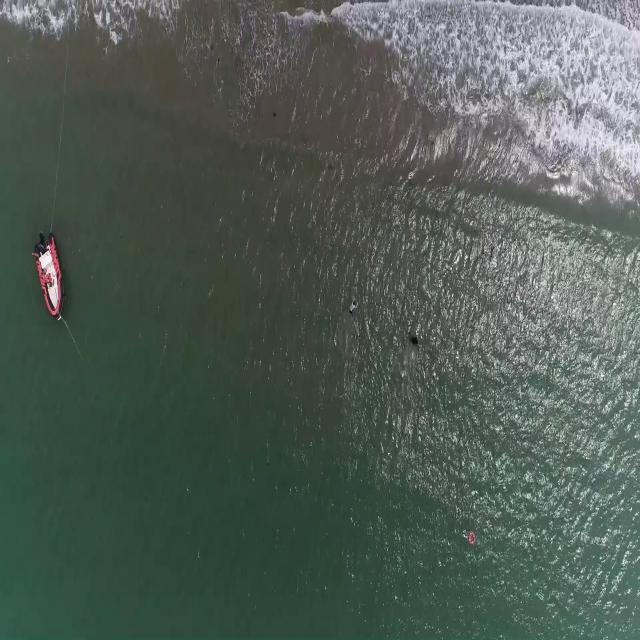boat: (34, 231, 64, 319)
life_buoy: (468, 530, 477, 544)
person: (349, 294, 362, 318), (410, 330, 419, 349)
